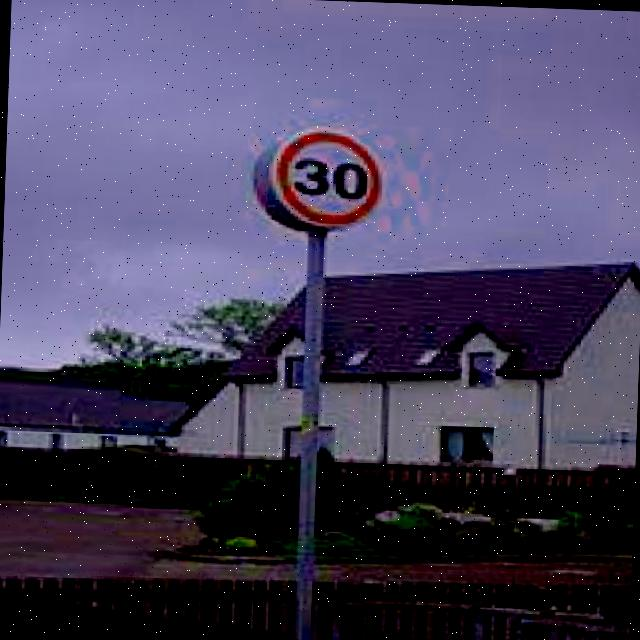Ograniczenie predkosci do 30: (266, 127, 392, 236)
